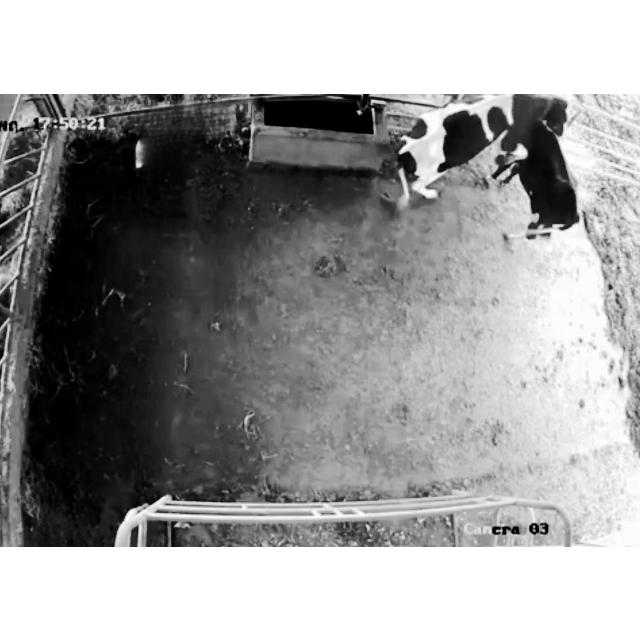ride: (393, 94, 572, 204)
